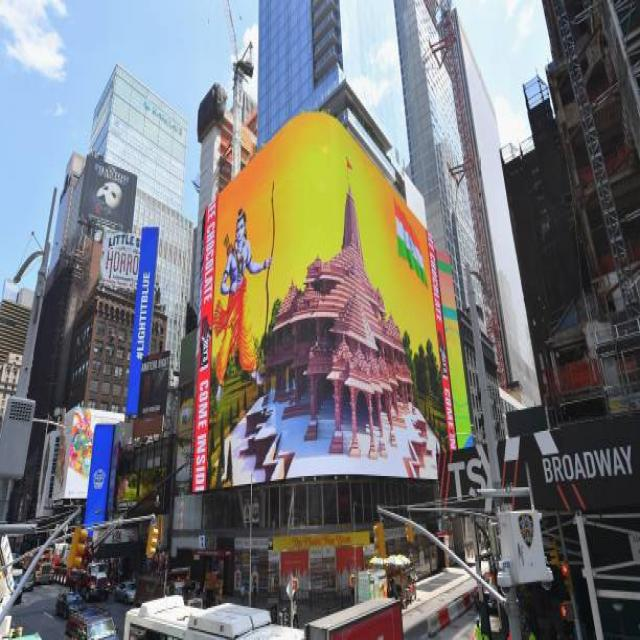Werbetafel frei: (193, 128, 439, 474), (83, 154, 136, 232), (137, 222, 154, 411), (98, 228, 140, 302), (89, 422, 109, 534)
